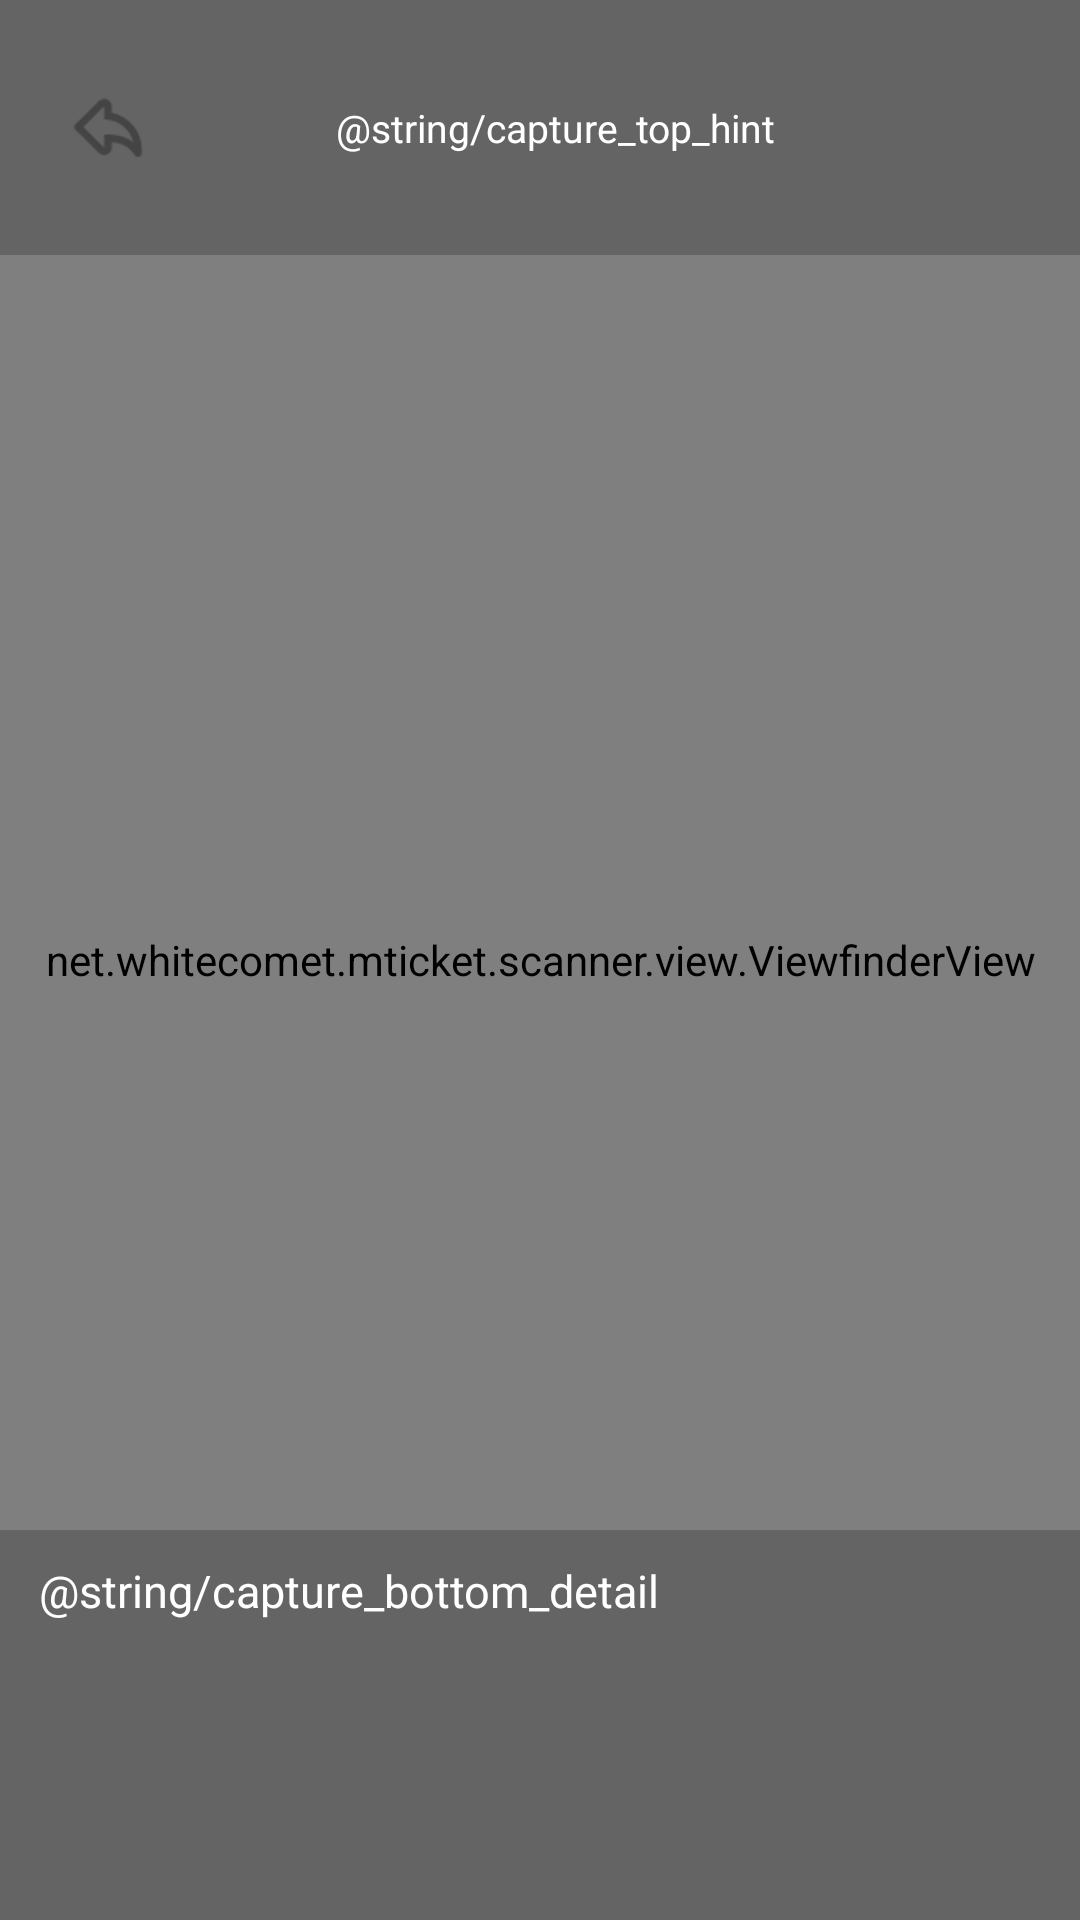

Icon click points for this 1080 x 1920 phone screenshot, format (x=x, y=y):
scan back: (x=108, y=128)
